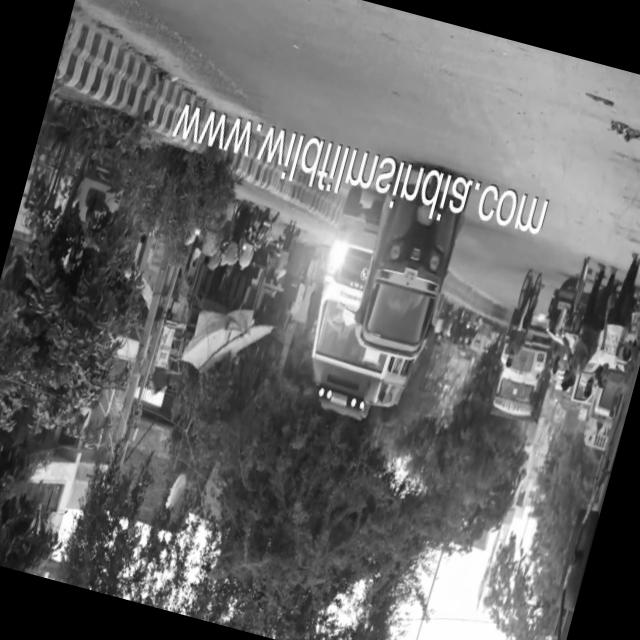ambulance: (307, 203, 408, 418)
